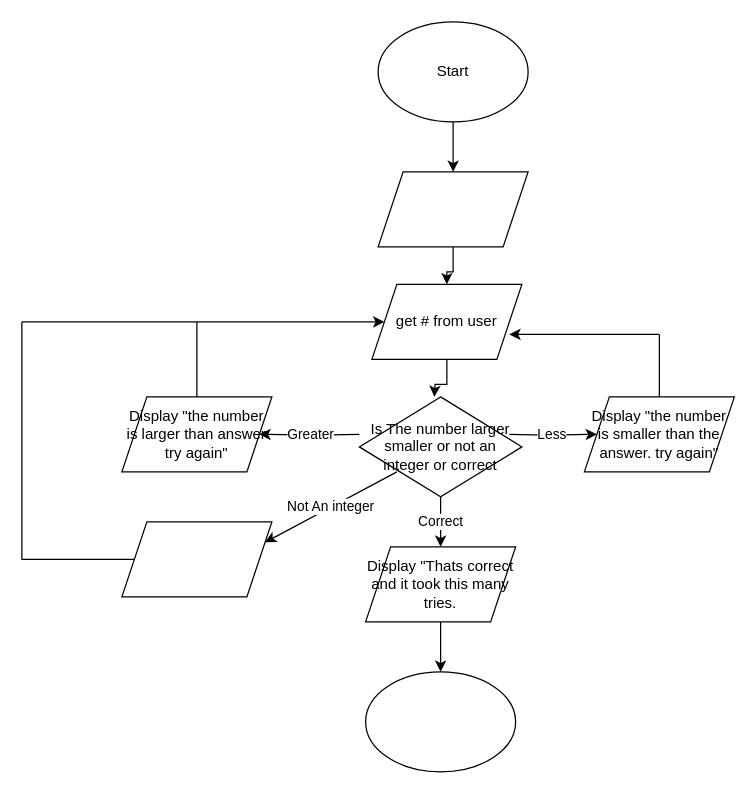
The diagram is 756 pixels wide and 794 high, and some of its shapes have lost their labels. The centre of each missing label's shape, as x and y in pixels:
Display "Enter a # between 1 and 100: pixel 452 209
Display "This is not an integer try again": pixel 196 559
End: pixel 440 721
